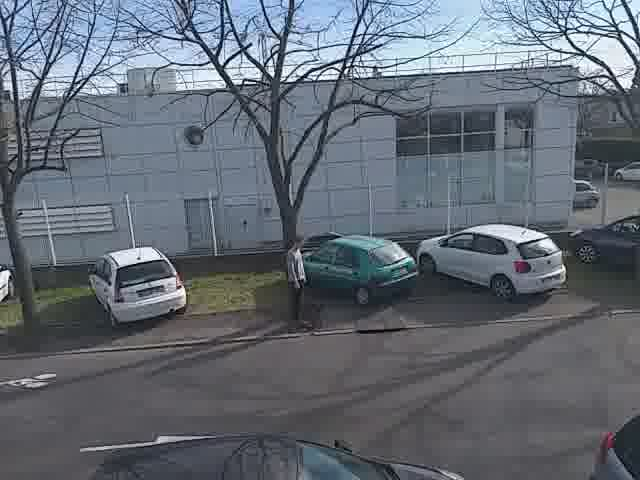persona: (278, 227, 313, 332)
